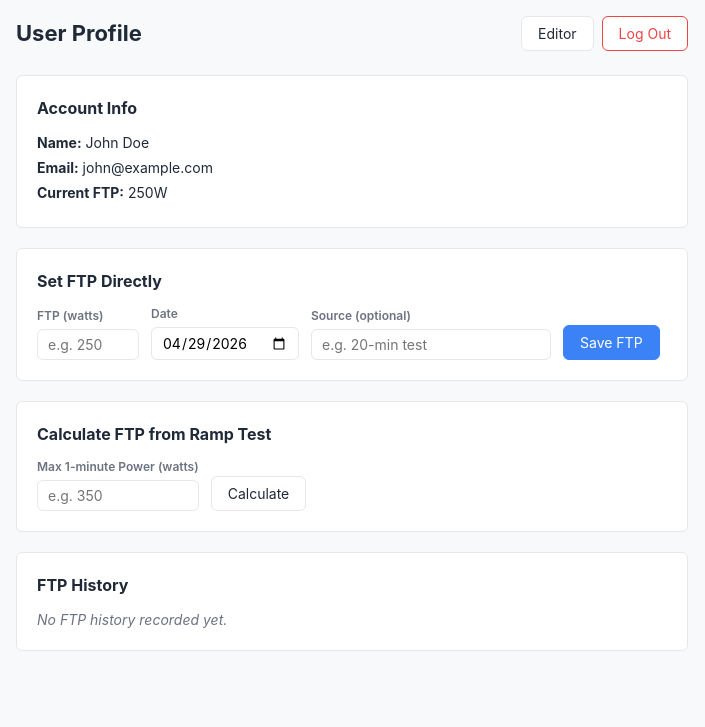
Test: Profile › shows error for invalid ramp test value
Type "10" into the number field labelled "Max 1-minute Power (watts)".
click(118, 496); type("10")  # box x1=37 y1=480 x2=199 y2=511
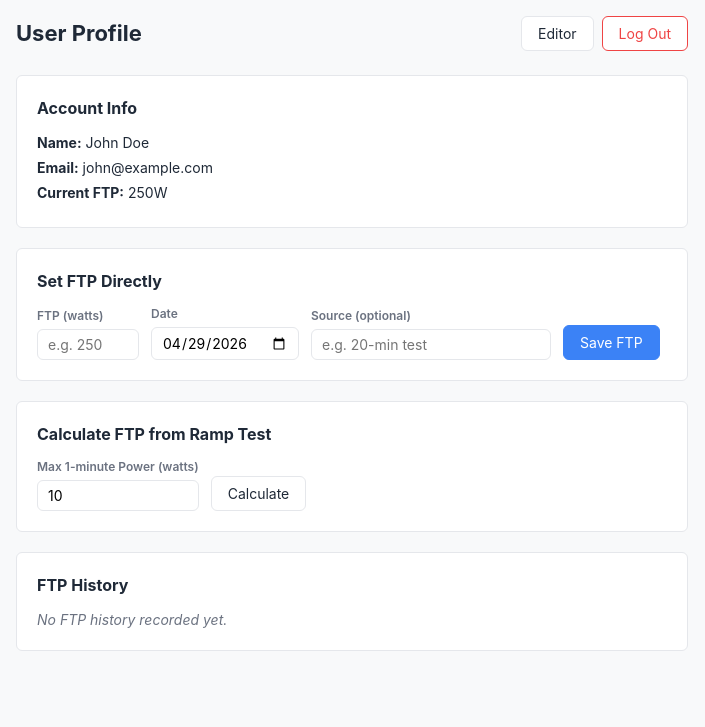
Click the button "Calculate".
click(258, 494)  # box x1=211 y1=476 x2=306 y2=511
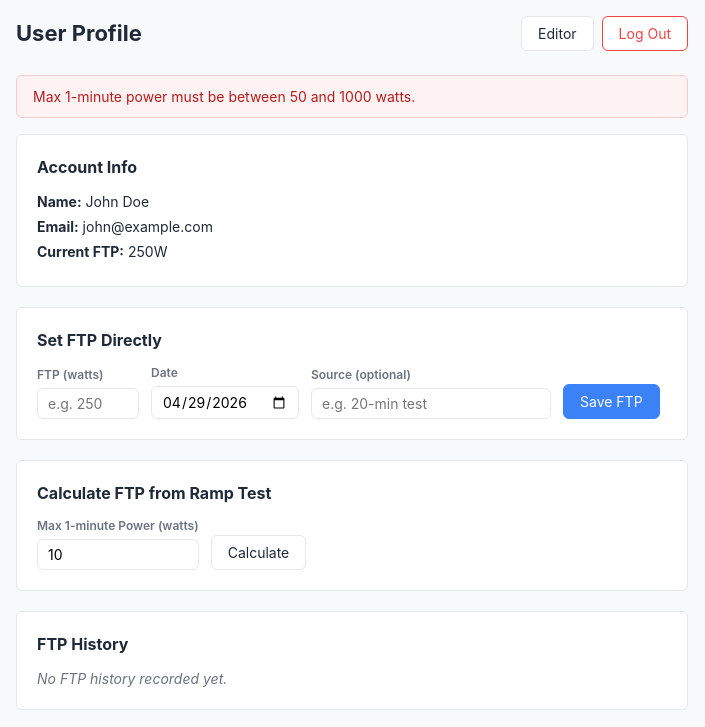
Expected: the text "Max 1-minute power must be between 50 and 1000 watts." is shown, x1=16 y1=75 x2=688 y2=118
